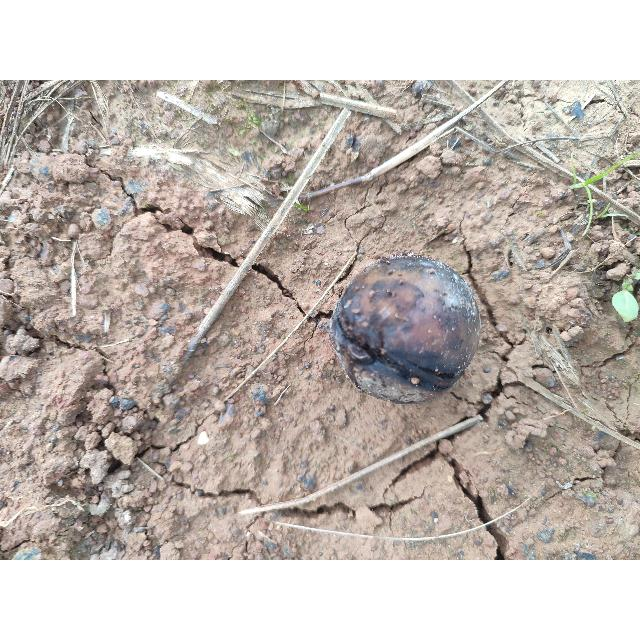damaged: (329, 255, 484, 405)
